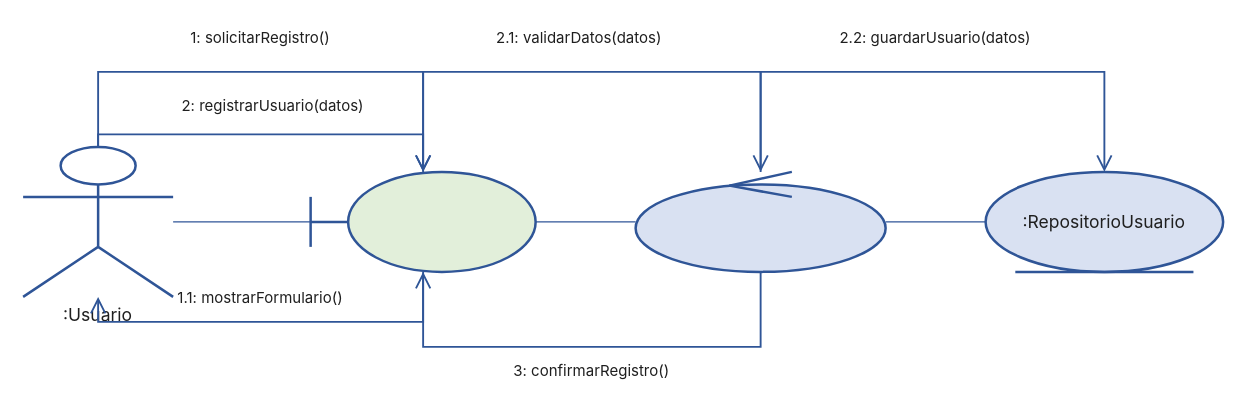
This 1245x408 diagram has some shape labels left out. Each missing label, with the centre of its shape:
":PantallaRegistro" belongs at (x=422, y=221).
":ServicioUsuario" belongs at (x=760, y=221).
